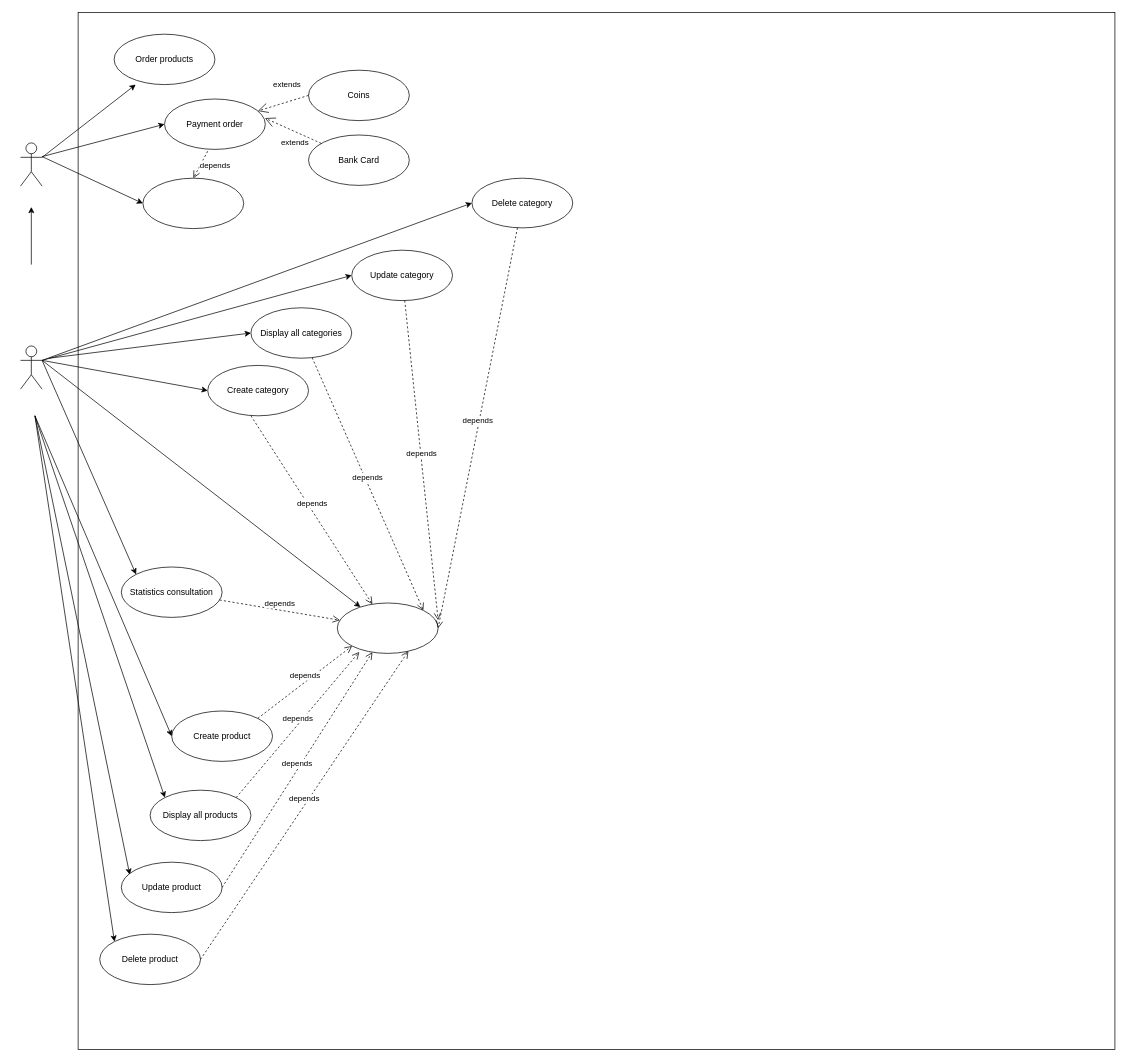
This 1128x1062 diagram has some shape labels left out. Each missing label, with the centre of its shape:
"Admin" belongs at point 31,367.
"Customer" belongs at point 31,164.
"Get products" belongs at point 193,203.
"Login" belongs at point 387,627.
